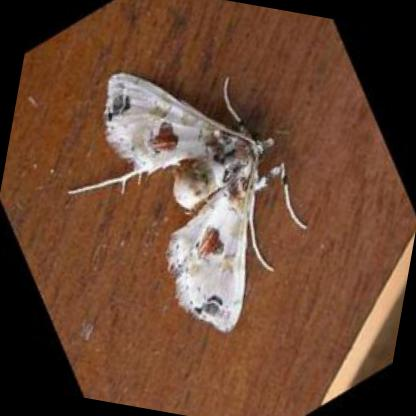leucinodes: (105, 73, 270, 331)
